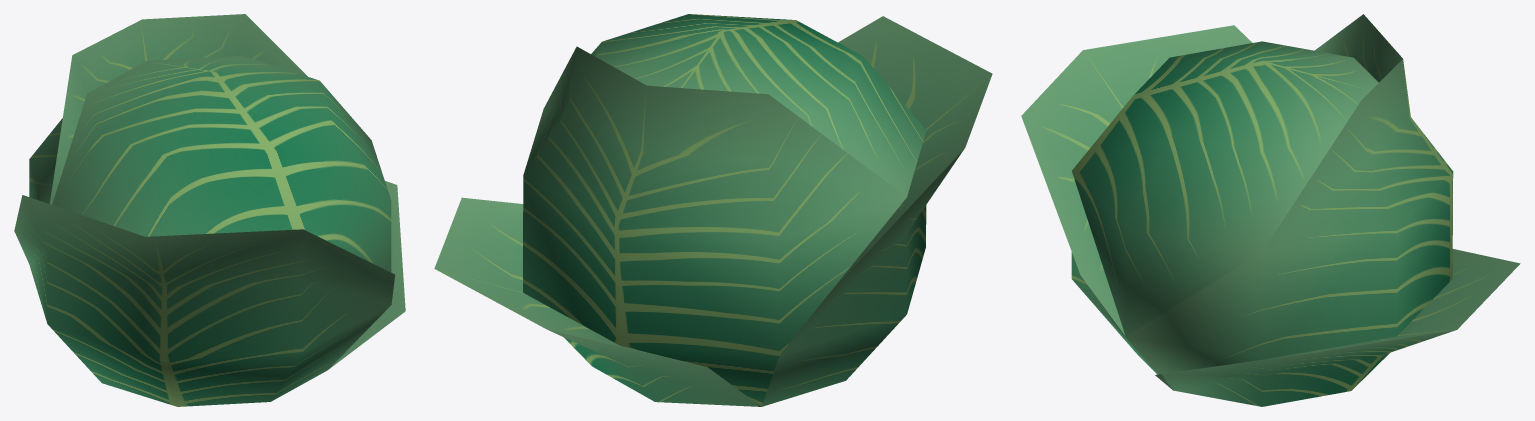
Rendered from Cabbage.FBX.
The picture shows the model from 3 angles, left to right: view 1: azimuth 30°, elevation 25°; view 2: azimuth 150°, elevation 25°; view 3: azimuth 270°, elevation 25°; orthographic projection. The views are drawn at different scales.
Visible parts, largest first — view 1: Cabbage; view 2: Cabbage; view 3: Cabbage.
Boxes of the visible parts, box(x1,y1,x2,y2) form: Cabbage: box(14, 14, 405, 406); Cabbage: box(434, 14, 992, 406); Cabbage: box(1021, 14, 1520, 406).
Bounding box in the file's own units: 18.83 × 14.08 × 19.23.
1 material, 1 textured.
